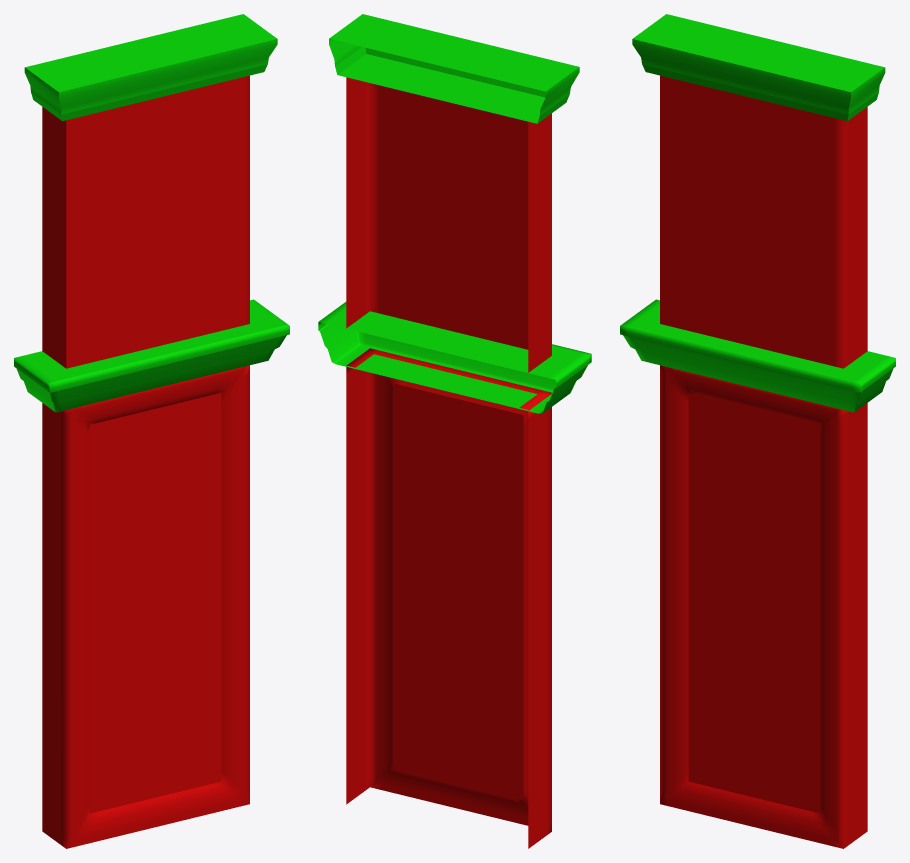
The model's file is SM_Column_WallB1m.fbx.
The picture shows the model from 3 angles, left to right: view 1: azimuth 30°, elevation 25°; view 2: azimuth 150°, elevation 25°; view 3: azimuth 330°, elevation 25°; orthographic projection.
Parts seen in each view (by area): view 1: SM_Column_WallB1m; view 2: SM_Column_WallB1m; view 3: SM_Column_WallB1m.
Part boxes in pixels (x1,y1,x2,y2): SM_Column_WallB1m: [14, 14, 289, 848]; SM_Column_WallB1m: [318, 14, 591, 848]; SM_Column_WallB1m: [620, 14, 895, 848].
Bounding box in the file's own units: 131 × 400 × 33.97.
